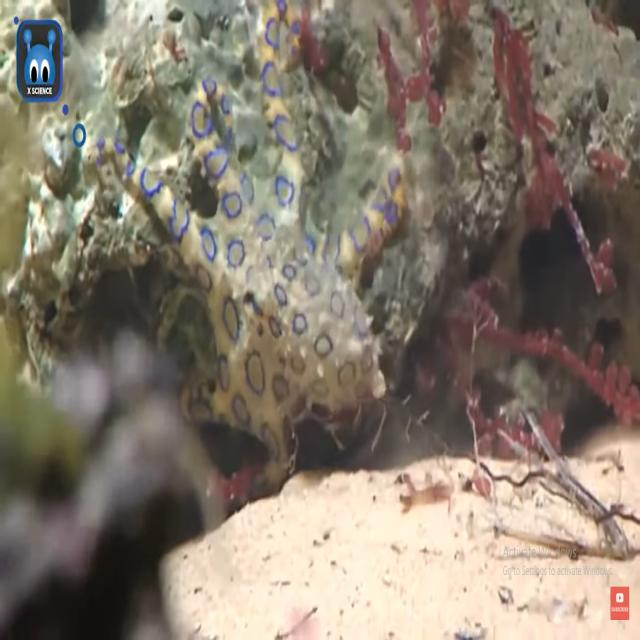blue_ringed_octopus: (84, 0, 407, 478)
